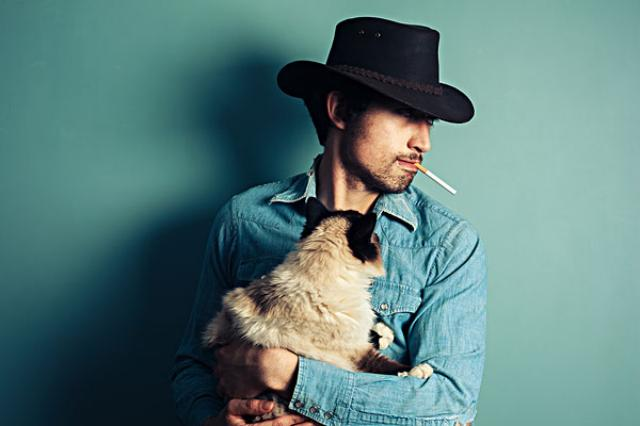Cigarette: (414, 162, 460, 196)
